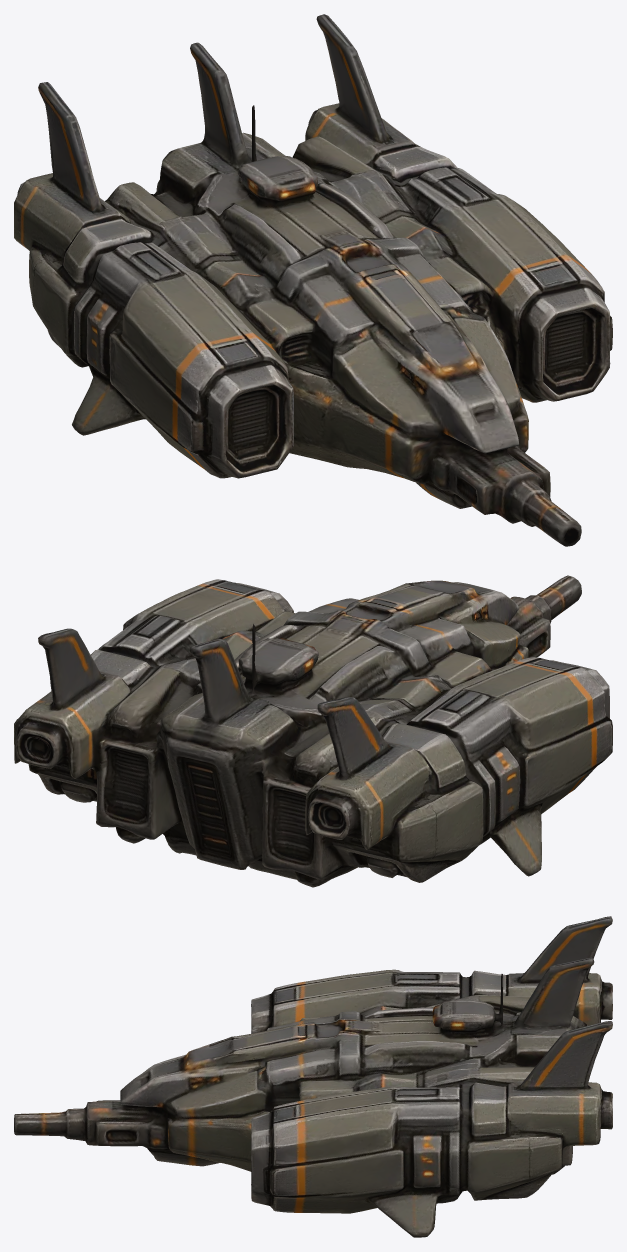
The model's file is gunship_optimizado.glb.
3 views of the same model, one above another, from view 1: azimuth 30°, elevation 25°; view 2: azimuth 150°, elevation 25°; view 3: azimuth 270°, elevation 25° (orthographic). The views are drawn at different scales.
Visible parts, largest first — view 1: input; view 2: input; view 3: input.
Boxes of the visible parts, x1,y1,x2,y2 form: input: [14, 14, 612, 546]; input: [14, 575, 612, 887]; input: [14, 916, 612, 1237].
Size of the model in its own units: 13.65 by 8.1 by 20.
1 material, 1 textured.
